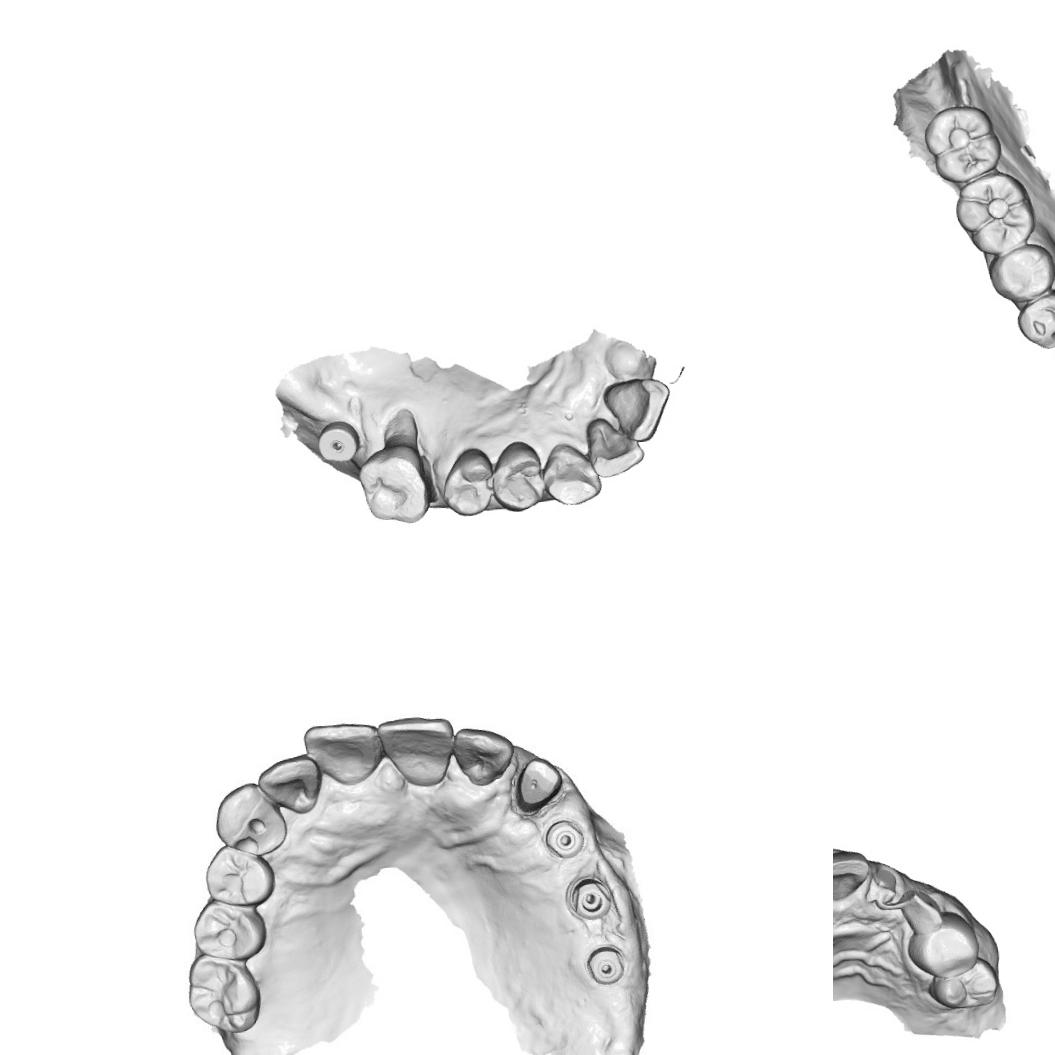canine: (214, 784, 279, 852), (540, 440, 603, 507)
crown: (514, 754, 562, 820)
implant: (562, 870, 617, 923), (584, 939, 628, 991), (314, 418, 360, 466), (545, 816, 586, 860)
incisor: (378, 711, 457, 794), (600, 374, 675, 445), (306, 719, 380, 788), (453, 724, 519, 790), (582, 414, 646, 478), (261, 757, 317, 812), (833, 846, 872, 903)
molar: (949, 170, 1037, 256), (353, 440, 436, 528), (920, 102, 1000, 183), (184, 954, 262, 1028)
premolar: (904, 907, 982, 982), (924, 954, 1001, 1014), (437, 444, 497, 520), (490, 436, 547, 513), (986, 242, 1055, 302), (192, 899, 262, 958), (201, 848, 271, 904), (1013, 289, 1055, 353)
